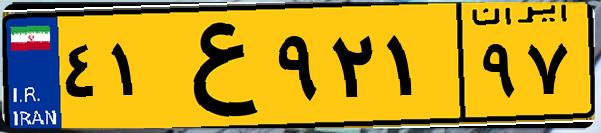1: (385, 28, 445, 110), (110, 28, 158, 98)
2: (330, 28, 385, 110)
4: (57, 26, 110, 100)
7: (525, 38, 570, 115)
9: (270, 28, 330, 110), (475, 38, 525, 113)
ع: (158, 12, 270, 120)
